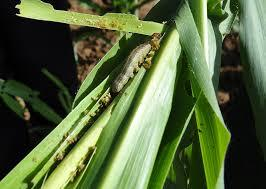fallarmy_worm: (111, 40, 152, 96)
